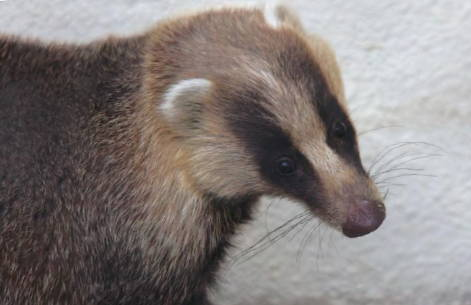badger: (2, 8, 387, 303)
